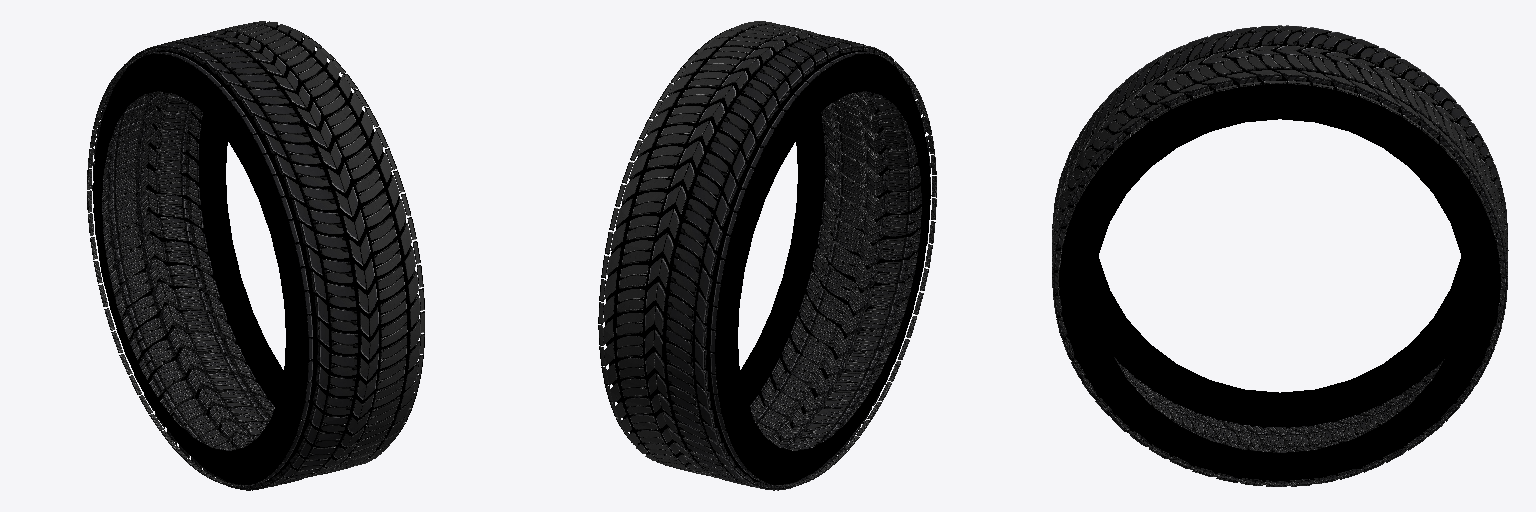
3 views of the same model, side by side, from view 1: azimuth 30°, elevation 25°; view 2: azimuth 150°, elevation 25°; view 3: azimuth 270°, elevation 25° (orthographic).
Visible parts, largest first — view 1: Better_Tread_Cube.002, Cylinder; view 2: Better_Tread_Cube.002, Cylinder; view 3: Cylinder, Better_Tread_Cube.002.
Part boxes in pixels (bbox=[...]): Better_Tread_Cube.002: bbox=[87, 21, 424, 490]; Cylinder: bbox=[93, 25, 418, 488]; Better_Tread_Cube.002: bbox=[598, 21, 936, 490]; Cylinder: bbox=[605, 24, 930, 484]; Cylinder: bbox=[1054, 28, 1504, 482]; Better_Tread_Cube.002: bbox=[1052, 25, 1508, 486].
Bounding box in the file's own units: 0.2326 × 0.7422 × 0.7422.
Materials: 2 (1 with a texture image).